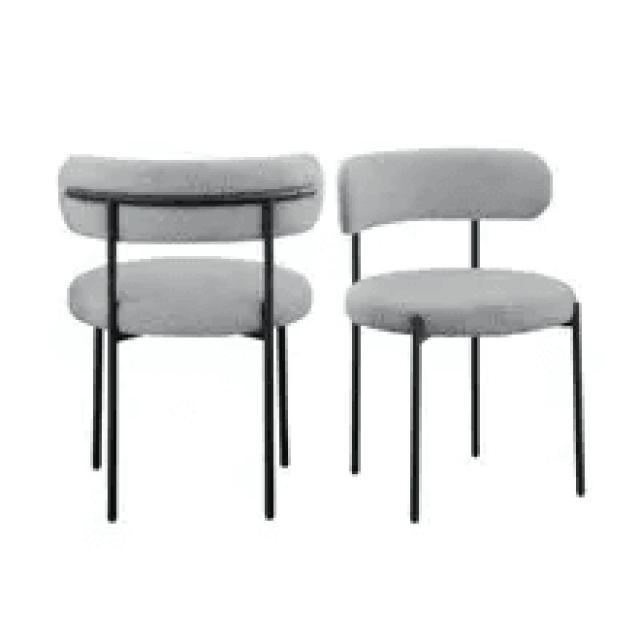chair: (52, 143, 330, 529), (333, 141, 592, 528), (61, 152, 324, 340), (332, 148, 582, 338)
